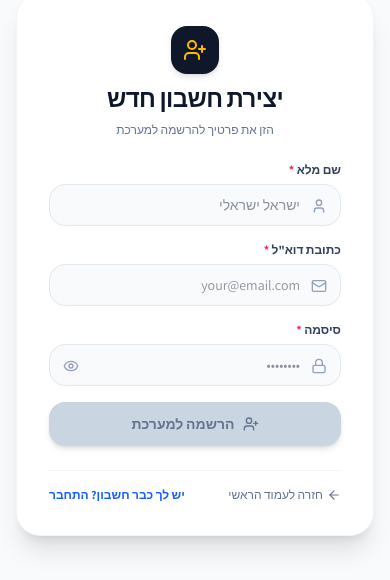
Test: SignUpPage › shows a validation error for a too-short name and keeps submit disabled
Type "א" into the field labelled "שם מלא *" at (195, 205), box [49,184,341,226]
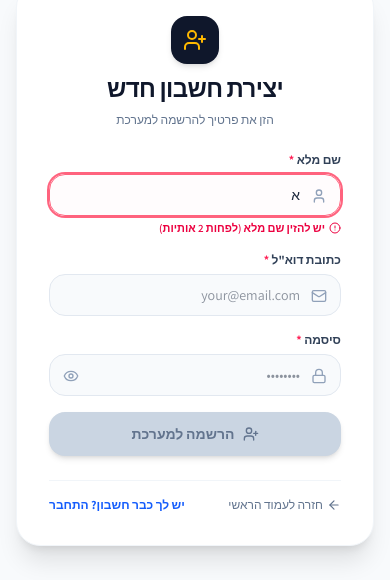
Expected: the button "הרשמה למערכת" is disabled, [49,412,341,456]
Expected: the text "יש להזין שם מלא (לפחות 2 אותיות)" is shown, [159,220,325,236]
